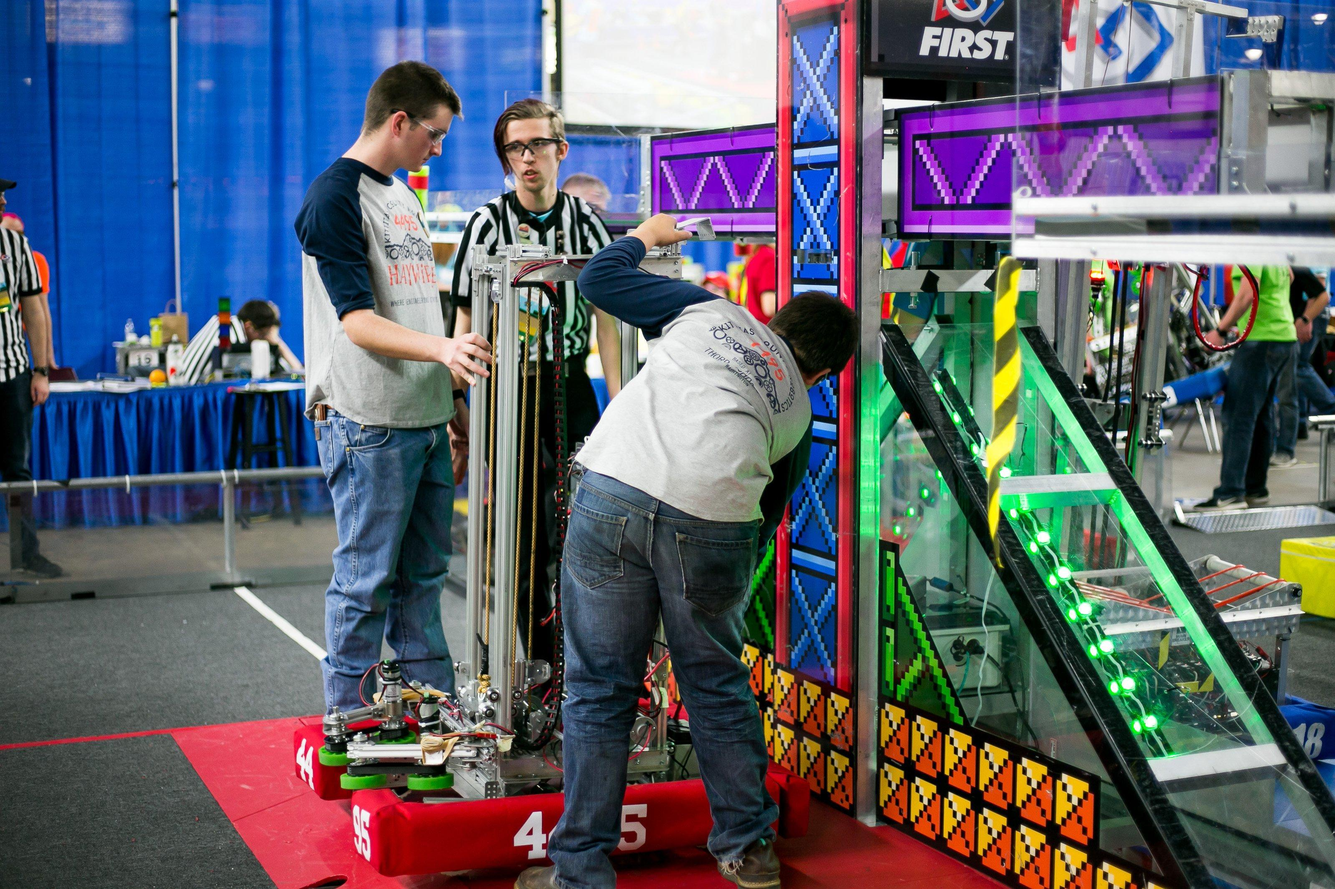robot: (291, 196, 807, 884)
